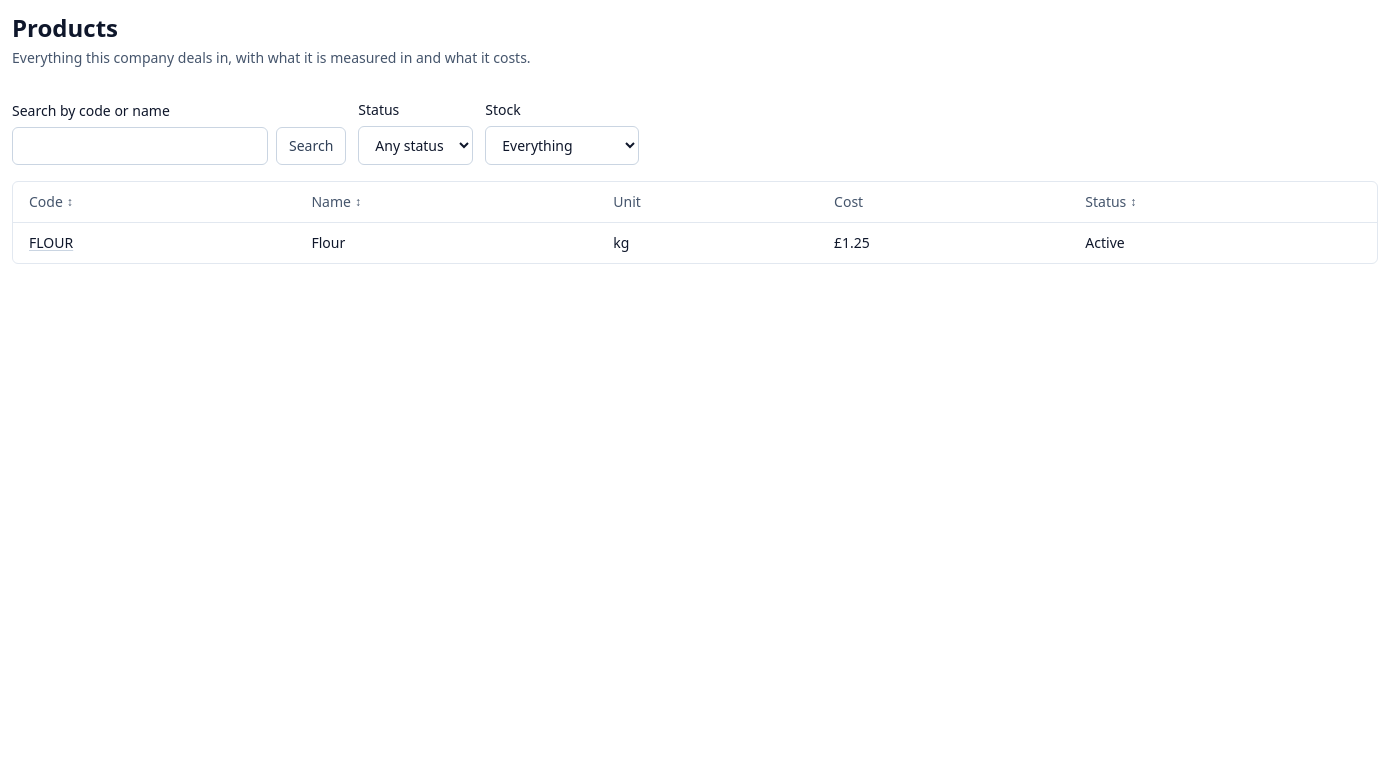
Test: ProductsPage › one product, and what can be done to it › records a supplier from the address book, and takes them off again
The image size is (1378, 780).
Click the button "FLOUR" at (51, 243), box [29,233,73,253]
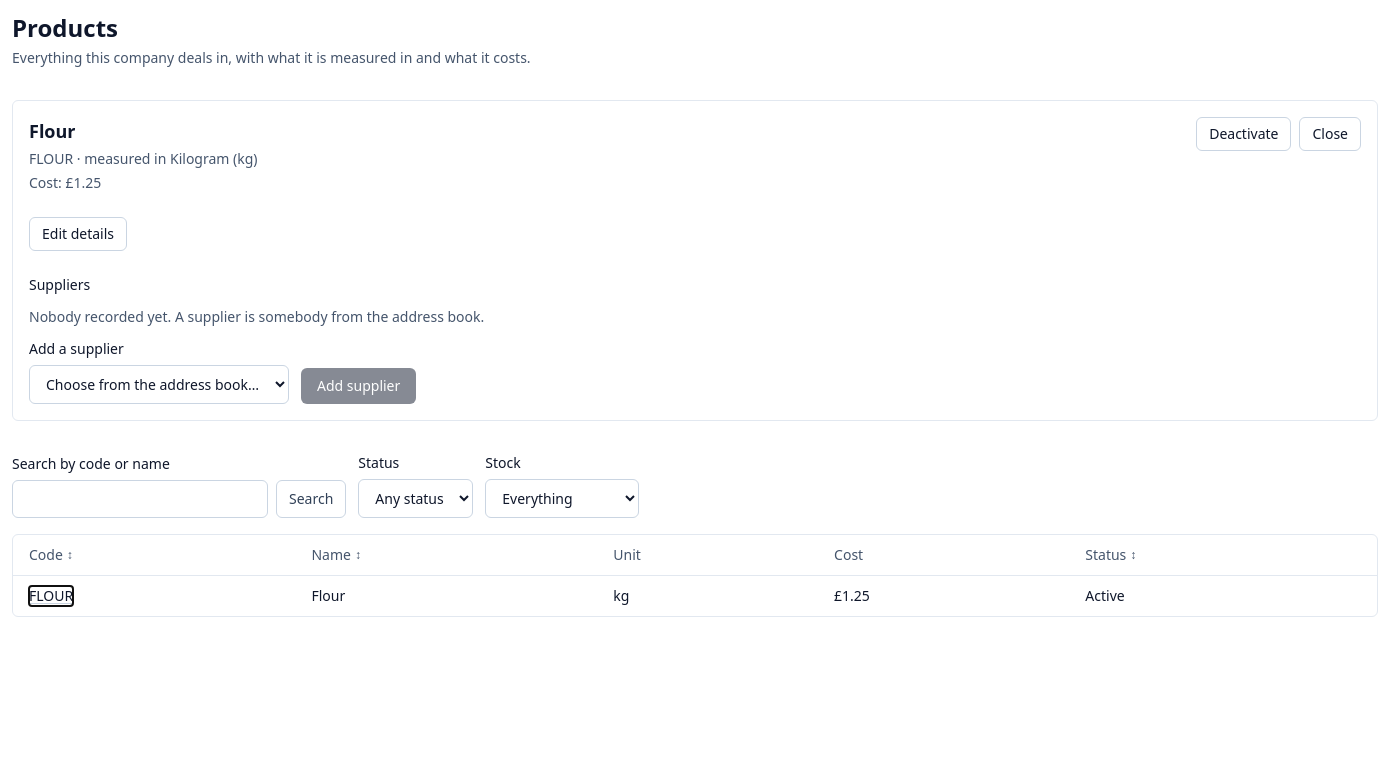
Select "Bakers Ltd" in the dropdown labelled "Add a supplier" at (159, 384), box [29,365,289,404]
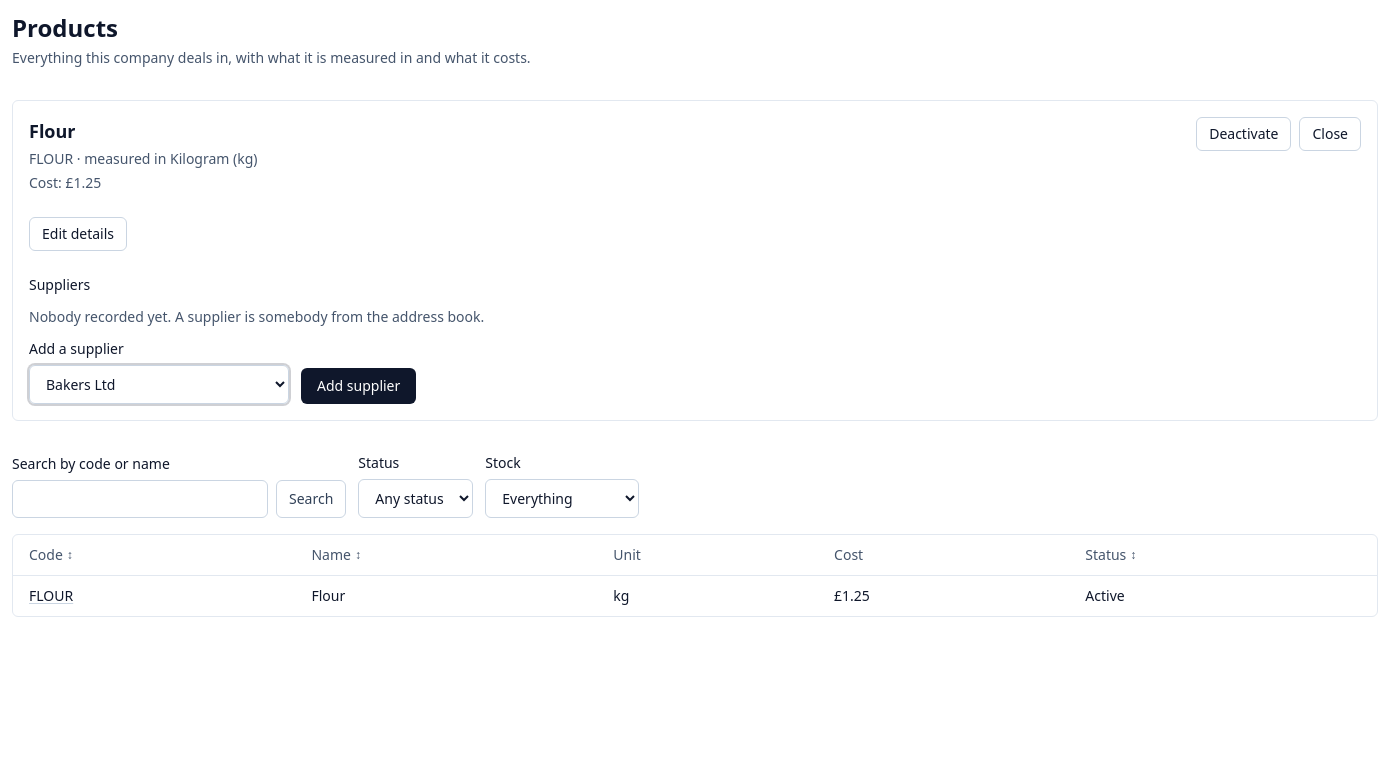
Click the button "Add supplier" at (359, 386), box [301,368,416,404]
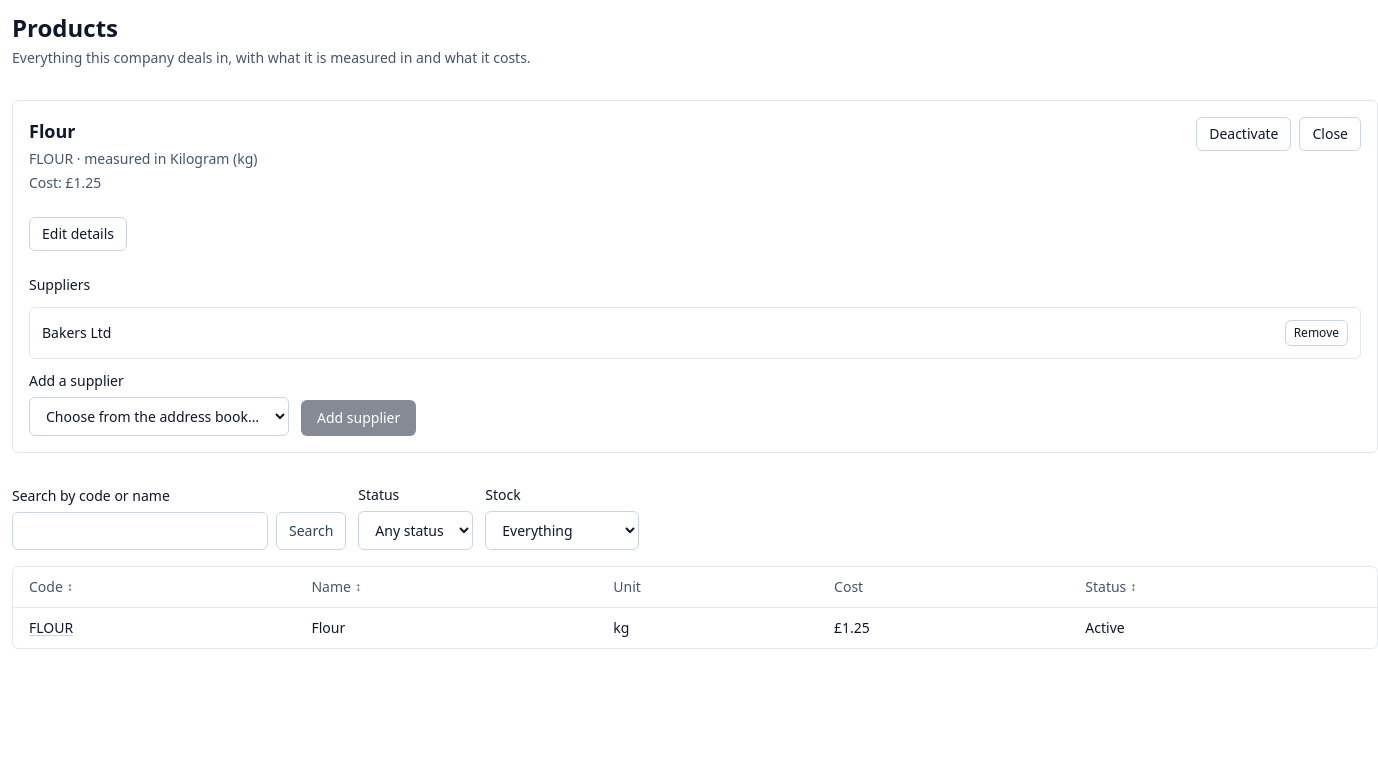
Check: the text "Bakers Ltd" is shown, box [42,323,112,342]
Click the button with aria-label "remove supplier bakers ltd" at (1316, 333), box [1285,320,1348,346]
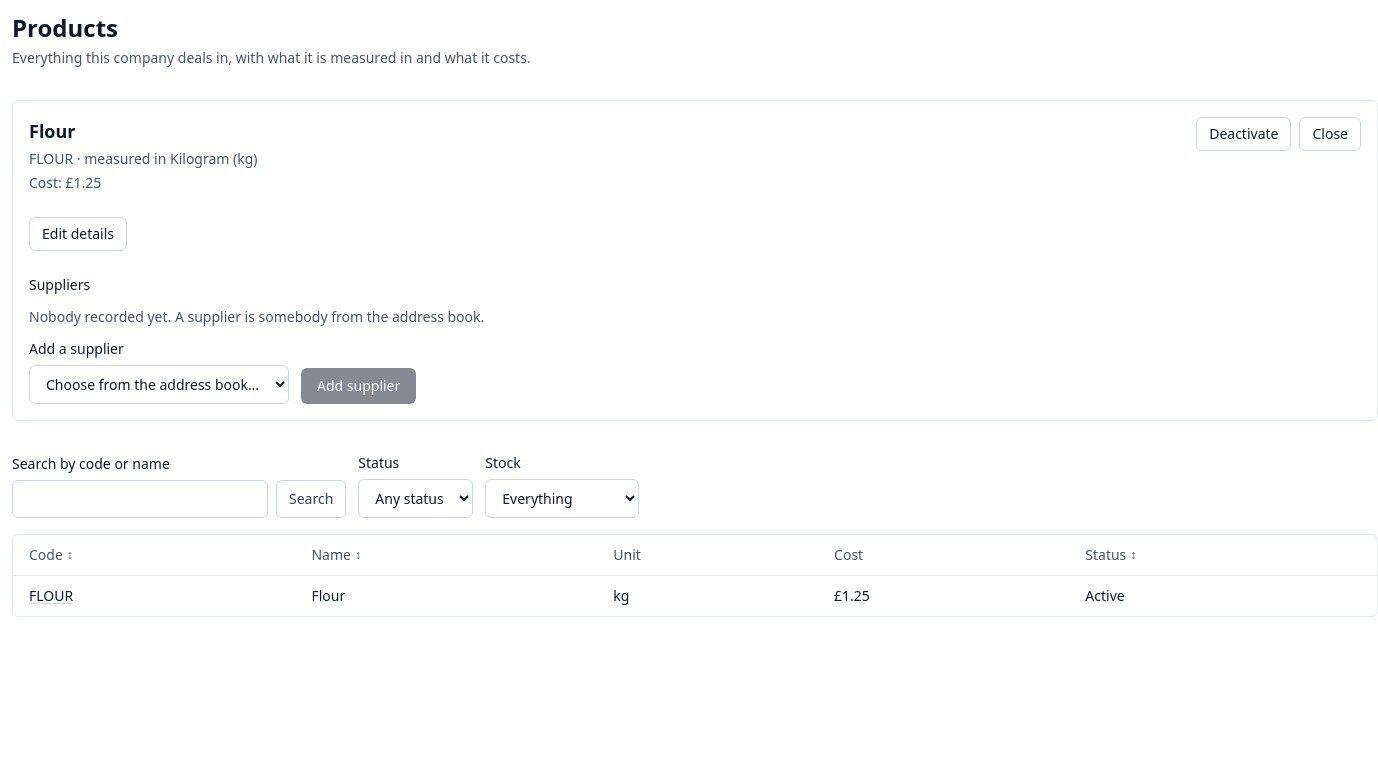
Check: the text "Nobody recorded yet" is shown, box [29,307,484,326]
